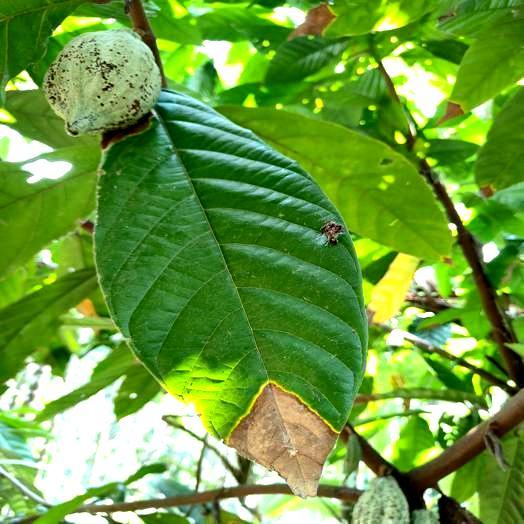Potassium: (94, 90, 367, 496)
